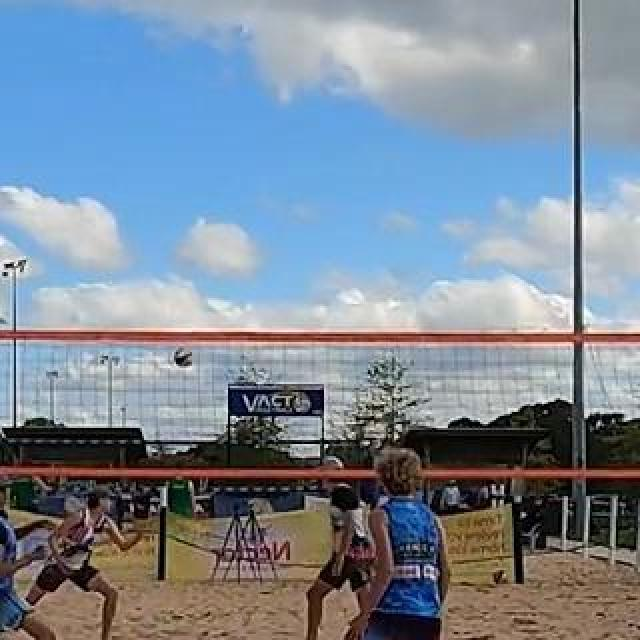volleyball: (173, 346, 195, 368), (492, 568, 510, 586)
